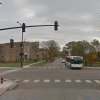crosswalk: (15, 76, 100, 84), (37, 65, 69, 68)
